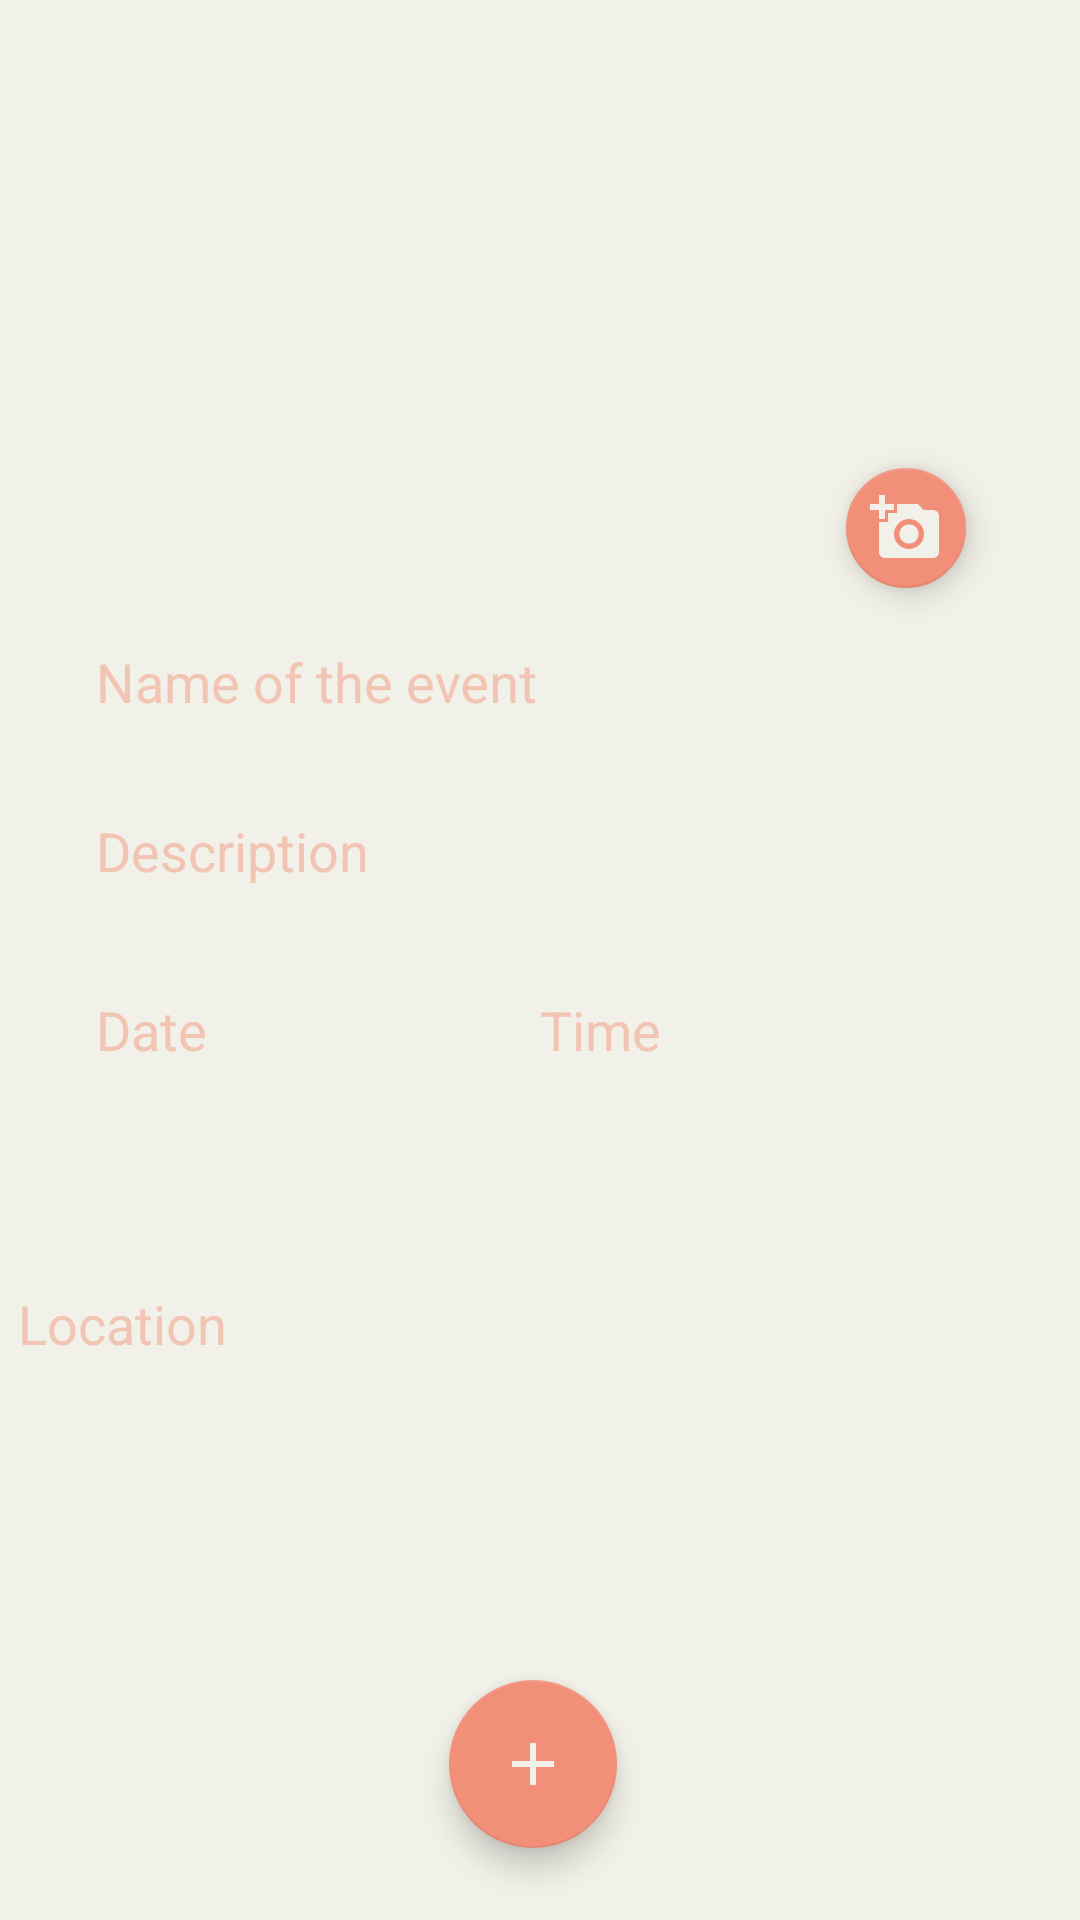

Icon bounding boxes for this 1080 × 1920 phone screenshot, format bbox=[x1, y1, x2, y2]:
add: bbox=[449, 1680, 617, 1848]
